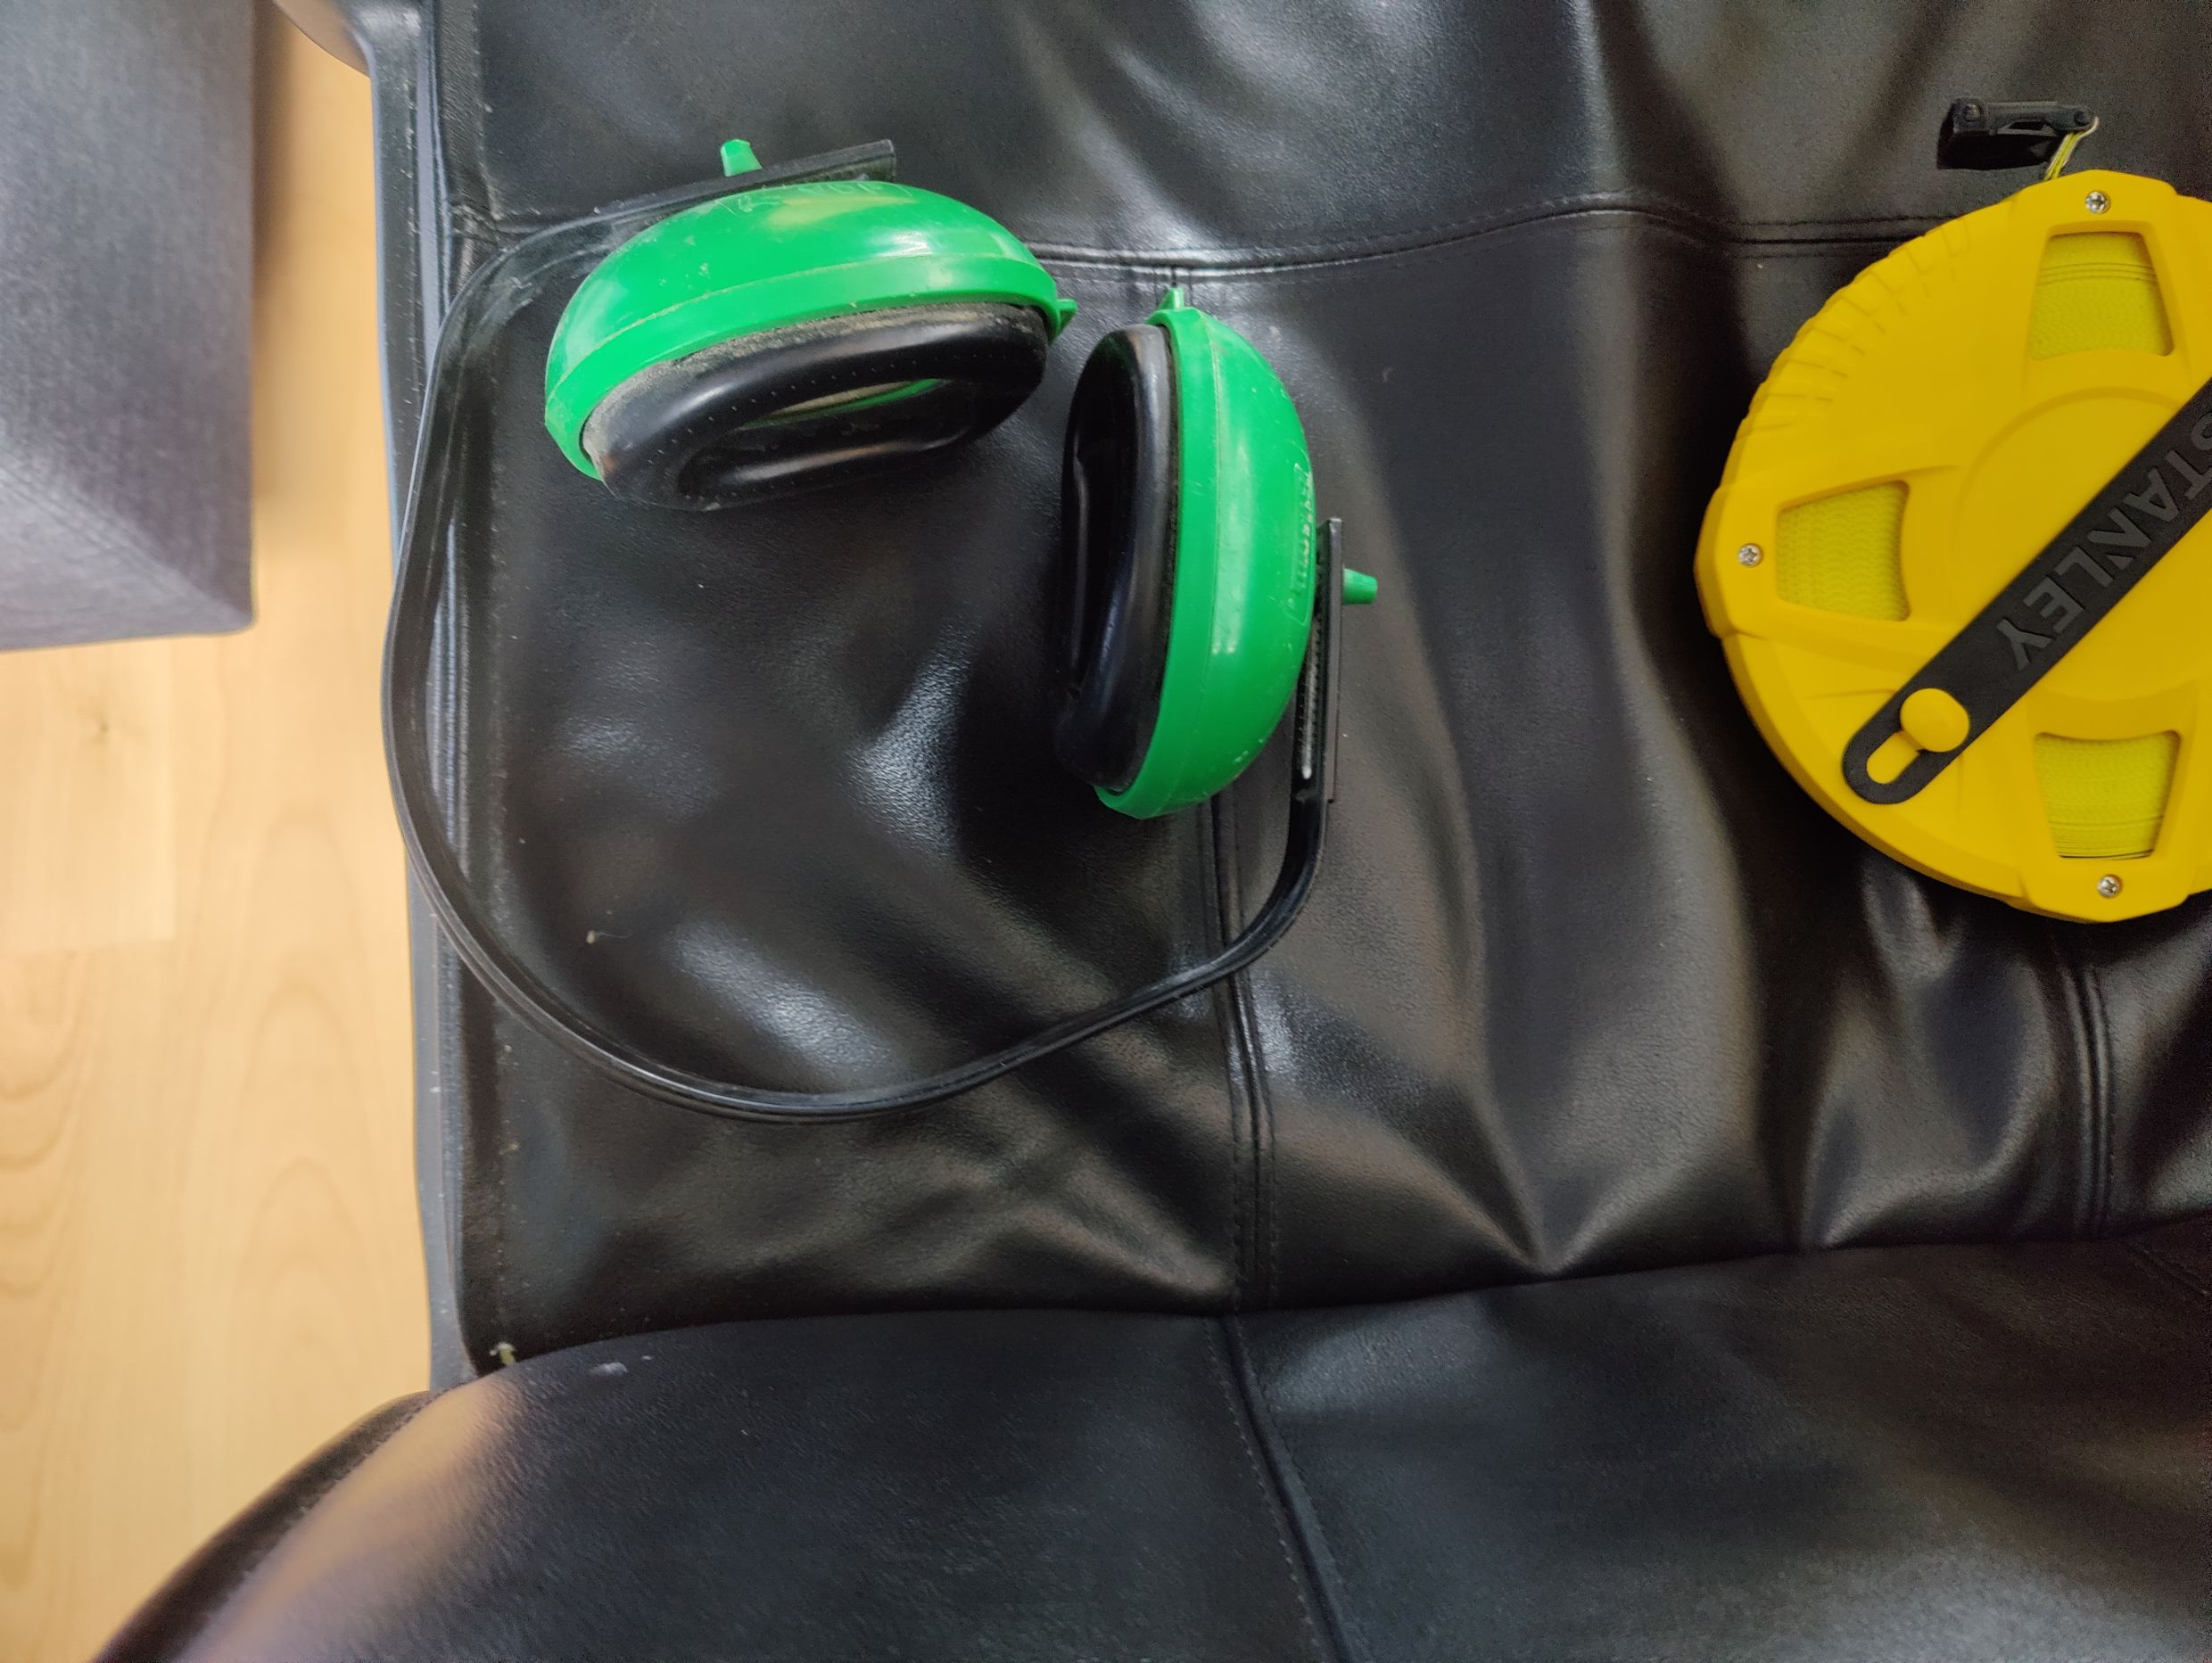headphones: (386, 135, 1377, 1118)
tapemeasure: (1695, 91, 2212, 935)
